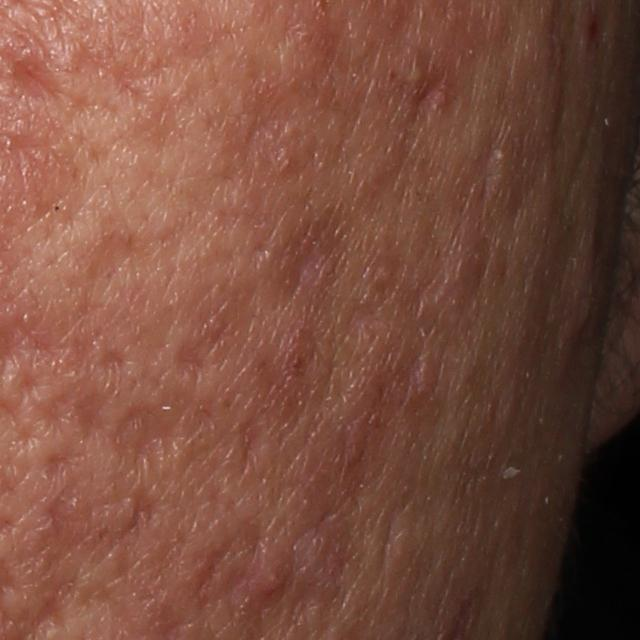atrophic_scar: (111, 405, 182, 478), (109, 482, 165, 563), (8, 46, 64, 114), (284, 239, 329, 301), (170, 333, 216, 387), (74, 391, 113, 443), (94, 342, 133, 380)
papule: (255, 540, 303, 600)
